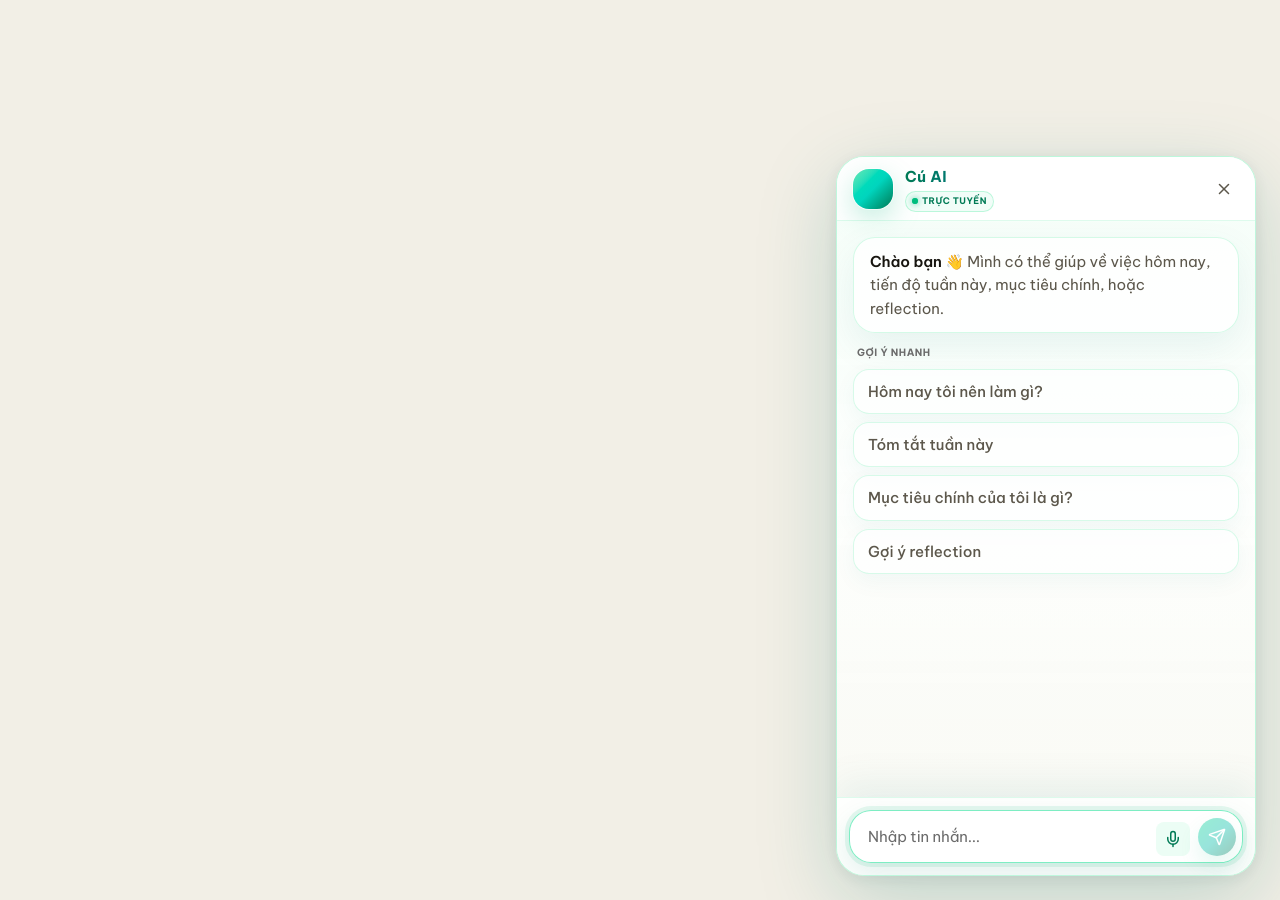
it: AssistantPanel › sends message on Enter
Type "abc" into the text box with placeholder "Nhập tin nhắn..." at (1002, 836), box x1=856 y1=817 x2=1148 y2=856
Then press Enter
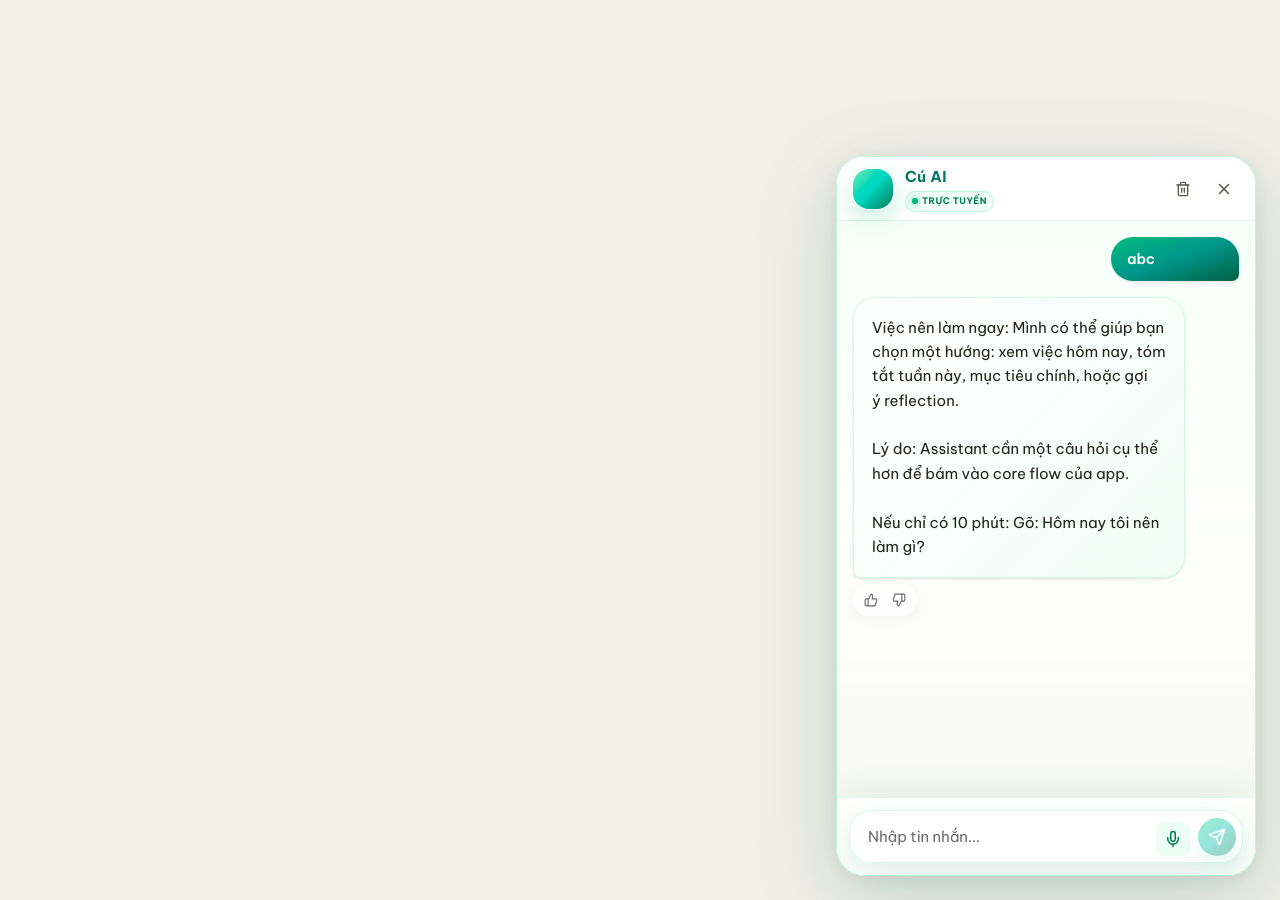
Result: the text "abc" is shown at x1=1127 y1=249 x2=1155 y2=268
